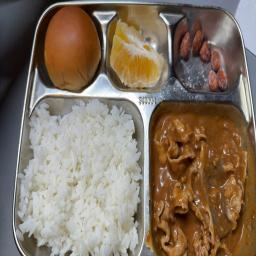100_beef: (147, 105, 252, 256)
100_bread: (42, 5, 102, 91)
100_orange: (105, 11, 164, 91)
100_rice: (22, 98, 142, 253)
25_nuts: (175, 18, 233, 94)
